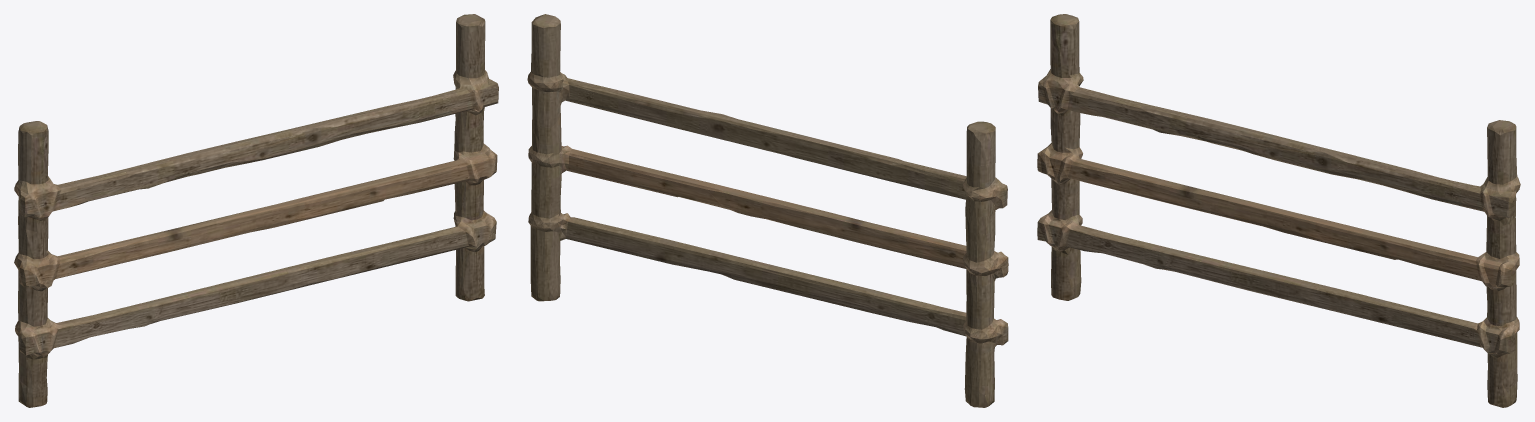
Rendered from fence_rail_rustic_lod0.glb.
3 views of the same model, side by side, from view 1: azimuth 30°, elevation 25°; view 2: azimuth 150°, elevation 25°; view 3: azimuth 330°, elevation 25° (orthographic).
Visible parts, largest first — view 1: fence_rail_rustic_lod0; view 2: fence_rail_rustic_lod0; view 3: fence_rail_rustic_lod0.
Part boxes in pixels (x1=…): fence_rail_rustic_lod0: x1=14, y1=14, x2=498, y2=407; fence_rail_rustic_lod0: x1=527, y1=14, x2=1008, y2=407; fence_rail_rustic_lod0: x1=1037, y1=14, x2=1520, y2=407.
Size of the model in its own units: 2 by 1.12 by 0.1568.
Materials: 1 (1 with a texture image).
